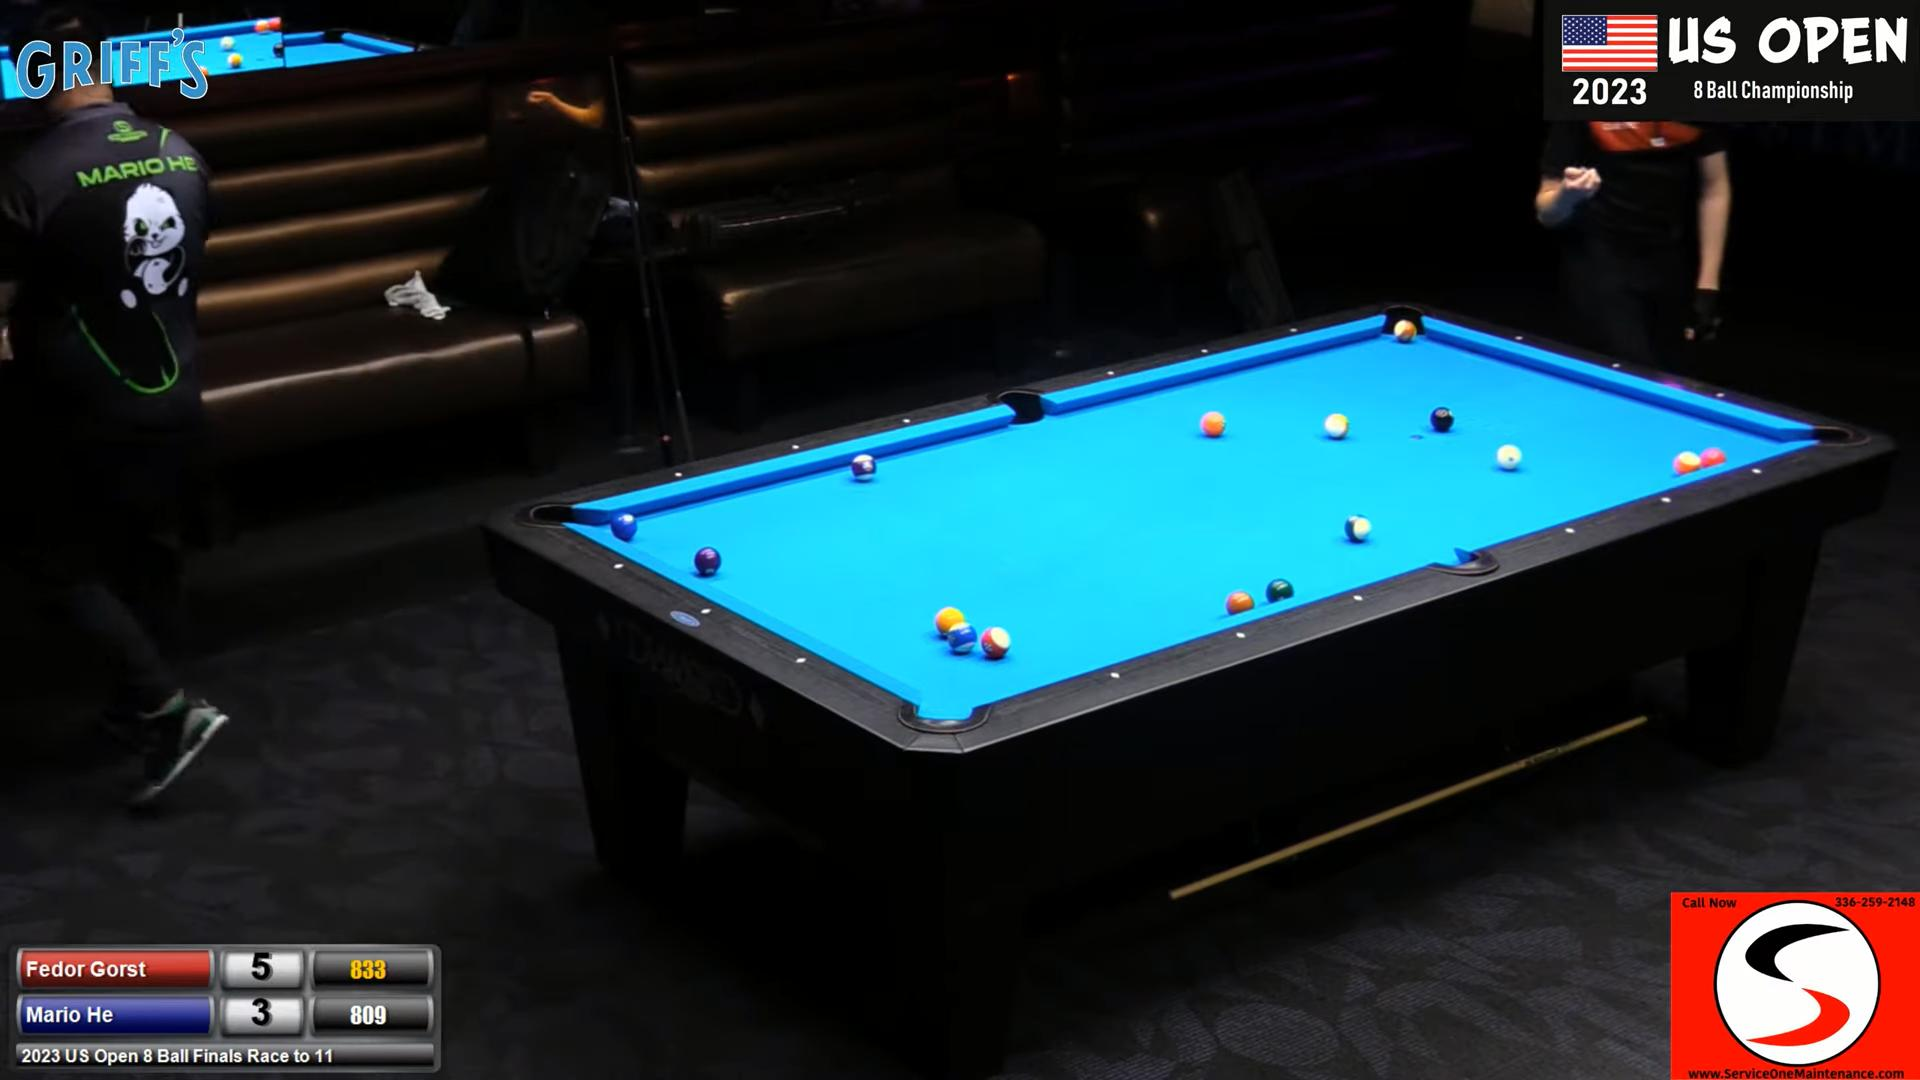Black: (1431, 407, 1455, 430)
Cue: (1497, 443, 1522, 468)
Dot: (895, 414, 918, 429), (1283, 323, 1305, 338), (1709, 388, 1731, 402), (1559, 524, 1581, 538), (1346, 591, 1369, 605), (1229, 628, 1251, 642), (695, 604, 716, 618), (608, 559, 629, 574), (1509, 331, 1530, 345), (790, 654, 812, 667), (667, 468, 690, 481), (785, 440, 807, 454), (1100, 367, 1122, 380), (1193, 344, 1216, 357), (1605, 359, 1627, 372), (1746, 464, 1768, 477), (1655, 493, 1677, 506), (1104, 669, 1126, 682)
Solid: (935, 607, 964, 637), (611, 512, 637, 539), (694, 547, 720, 574), (1266, 579, 1294, 604), (1200, 411, 1226, 436), (1226, 592, 1254, 616), (1700, 448, 1726, 469)
Striped: (981, 628, 1011, 658), (948, 622, 977, 653), (1345, 514, 1371, 542), (851, 454, 876, 481), (1324, 413, 1349, 439), (1673, 451, 1701, 475), (1394, 320, 1418, 343)
